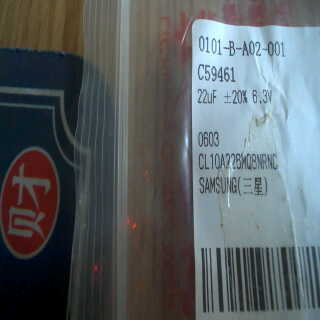22uF: (195, 85, 221, 108)
